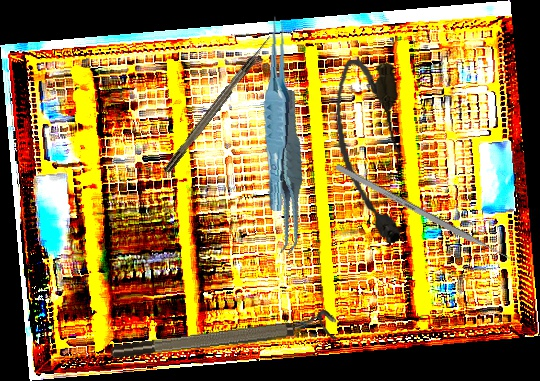Cannula: (328, 55, 414, 248)
Fixation Ring: (109, 308, 338, 363)
Hook Surgical: (162, 33, 275, 174)
Pusher: (334, 163, 523, 268)
Tissue Forceps: (248, 88, 331, 257), (255, 14, 300, 212)
